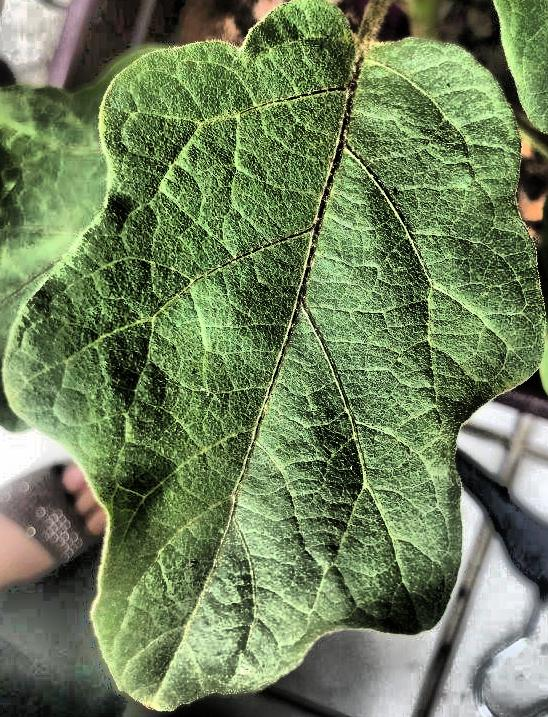HEALTHY: (1, 0, 548, 717)
